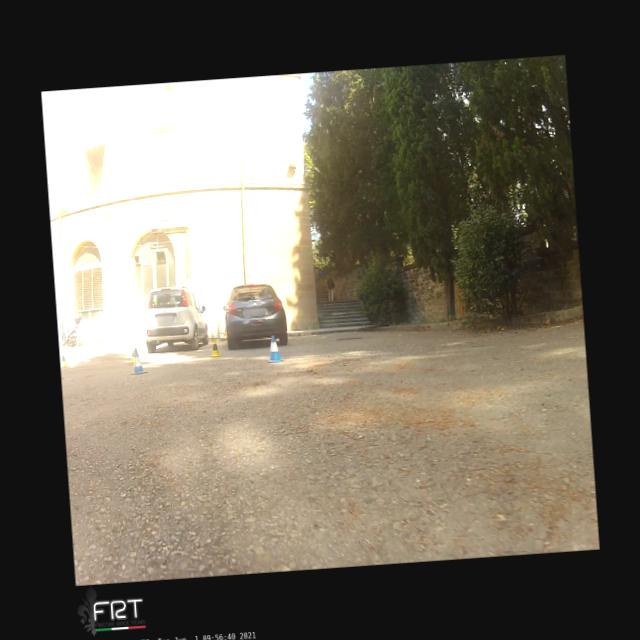blue_cone: (264, 334, 284, 363), (129, 348, 148, 374)
yellow_cone: (209, 338, 221, 356), (128, 344, 136, 362), (59, 351, 67, 367)
